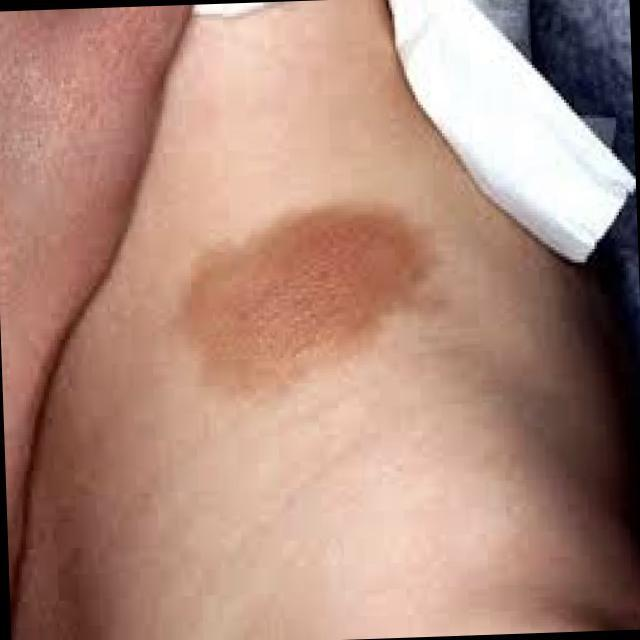Eczema: (159, 200, 435, 389)
